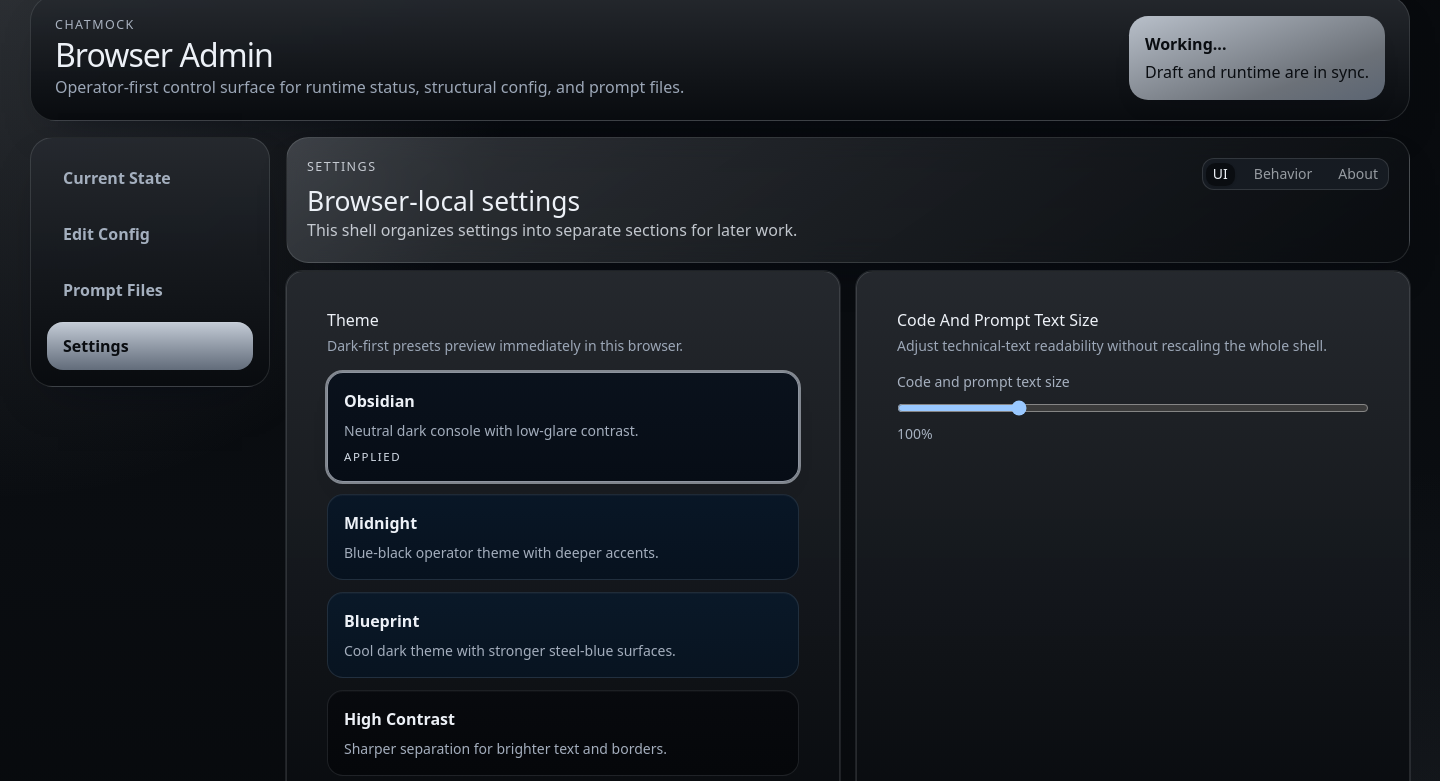
admin router › keeps applied settings active when applying without leaving the route
Click the button "Midnight": (381, 523) x1=327 y1=494 x2=799 y2=580
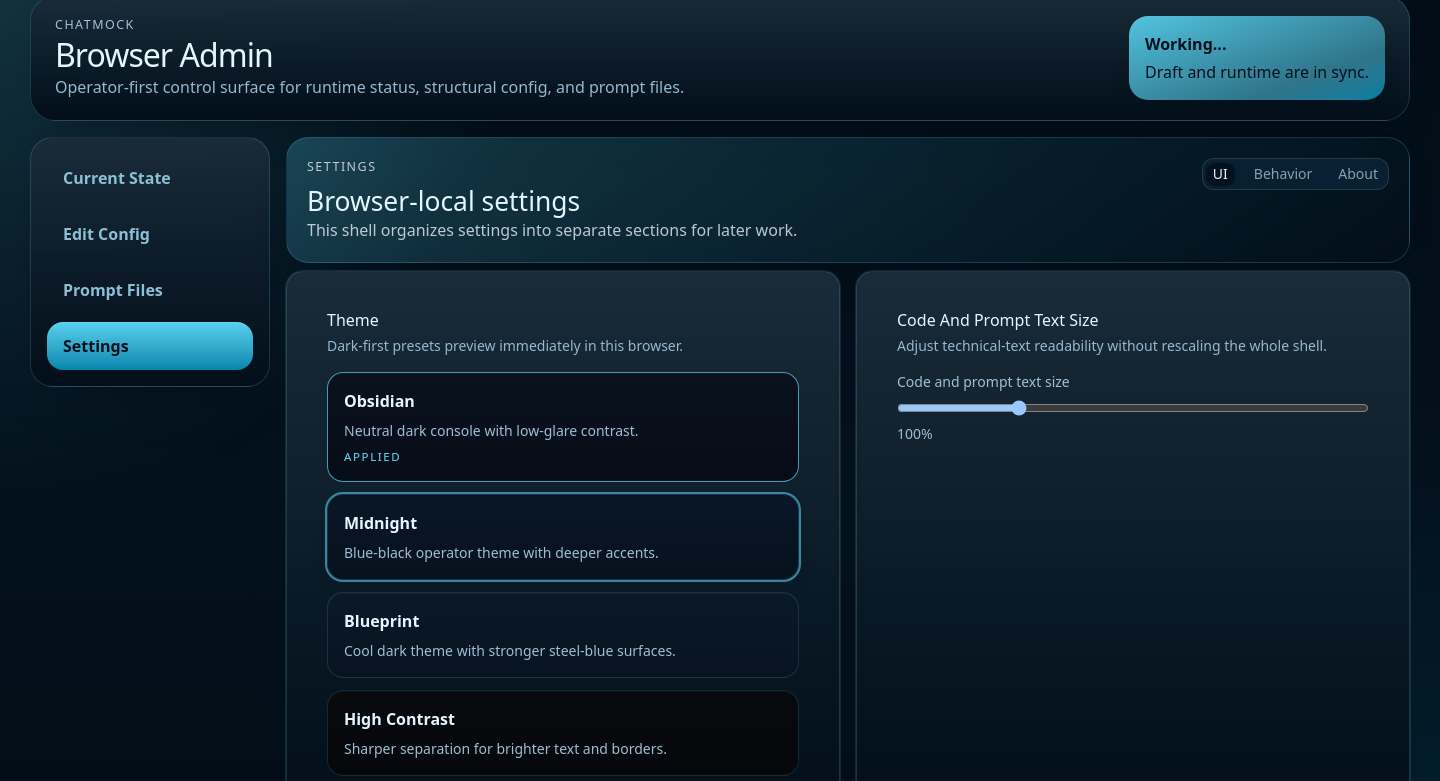
Set the slider labelled "Code and prompt text size" to "120": (1247, 408) x1=897 y1=400 x2=1369 y2=416
(page scrolled)
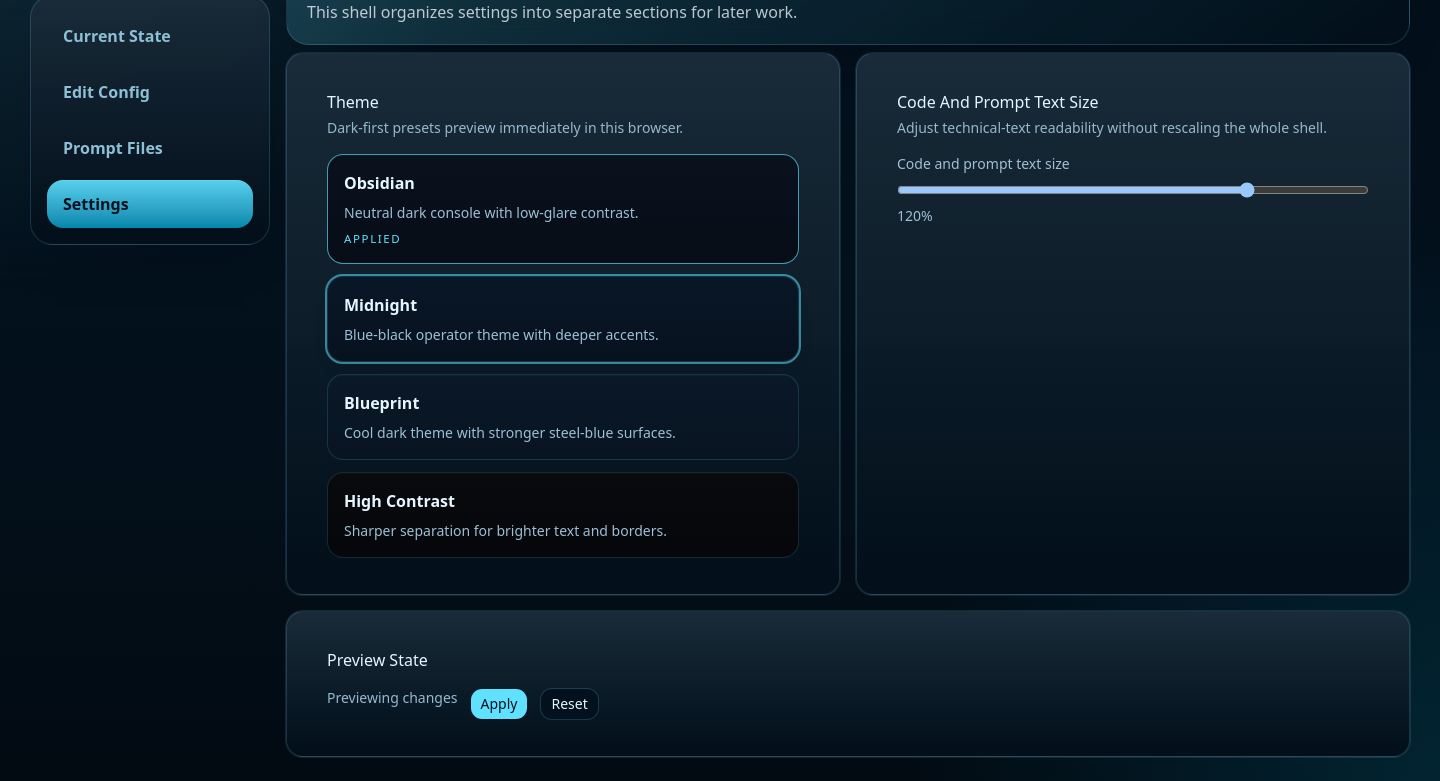
Click the button "Apply": (499, 704) x1=470 y1=688 x2=528 y2=720
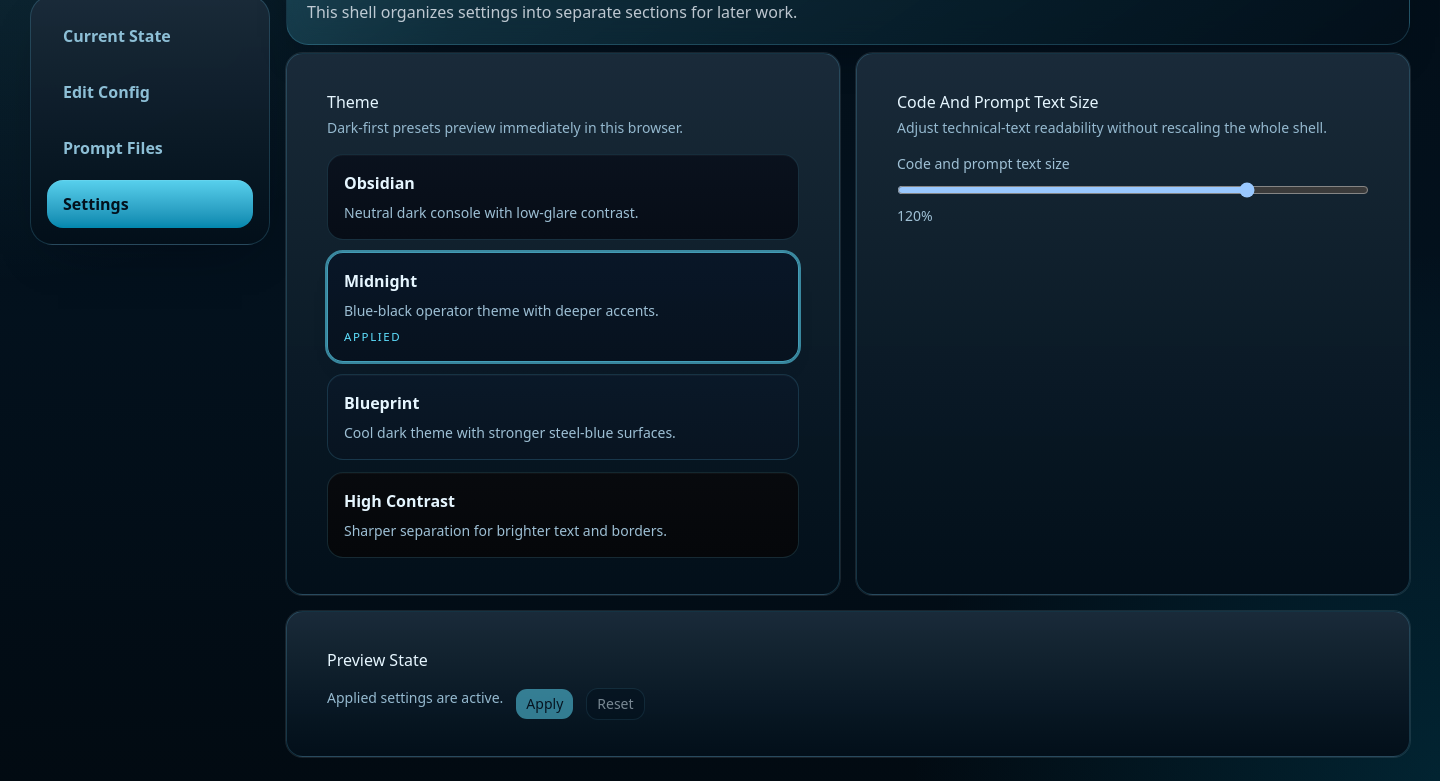
Check: the text "Applied settings are active." is shown, box x1=327 y1=688 x2=503 y2=707
Check: the button "Apply" is disabled, box x1=515 y1=688 x2=574 y2=720
